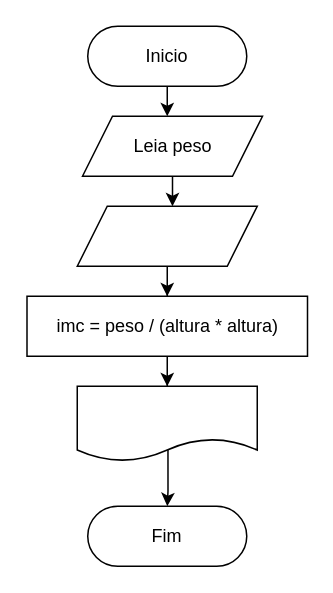
The diagram is 333 pixels wide and 593 high, and some of its shapes have lost their labels. The shapes that lost their labels are listed below. From the top down, each one's centre as x and y in pixels, then its label:
the point at 166,235: Leia altura
the point at 166,423: escreva imc
